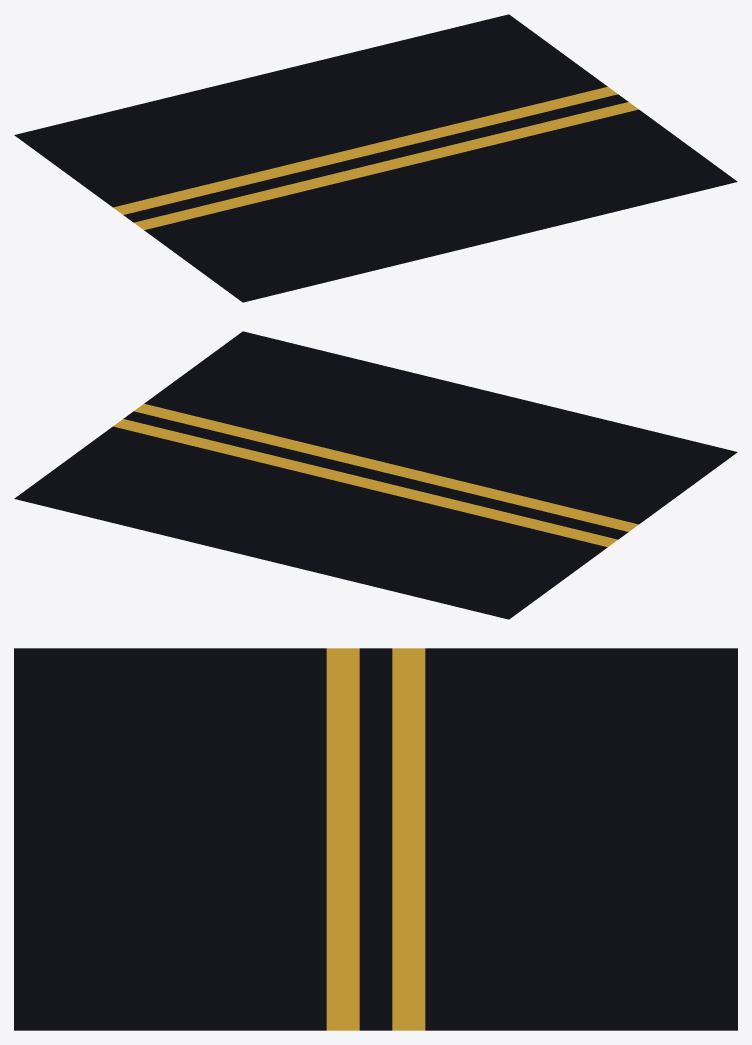
File: roadplane1.FBX
3 renders of one model, top to bottom at view 1: azimuth 30°, elevation 25°; view 2: azimuth 150°, elevation 25°; view 3: azimuth 270°, elevation 25°, orthographic. The views are drawn at different scales.
Visible parts, largest first — view 1: roadplane1; view 2: roadplane1; view 3: roadplane1.
Boxes of the visible parts, box(x1,y1,x2,y2) form: roadplane1: box(14, 14, 737, 302); roadplane1: box(14, 331, 737, 619); roadplane1: box(14, 648, 737, 1030).
Size of the model in its own units: 40.31 by 1.32e-06 by 32.29.
